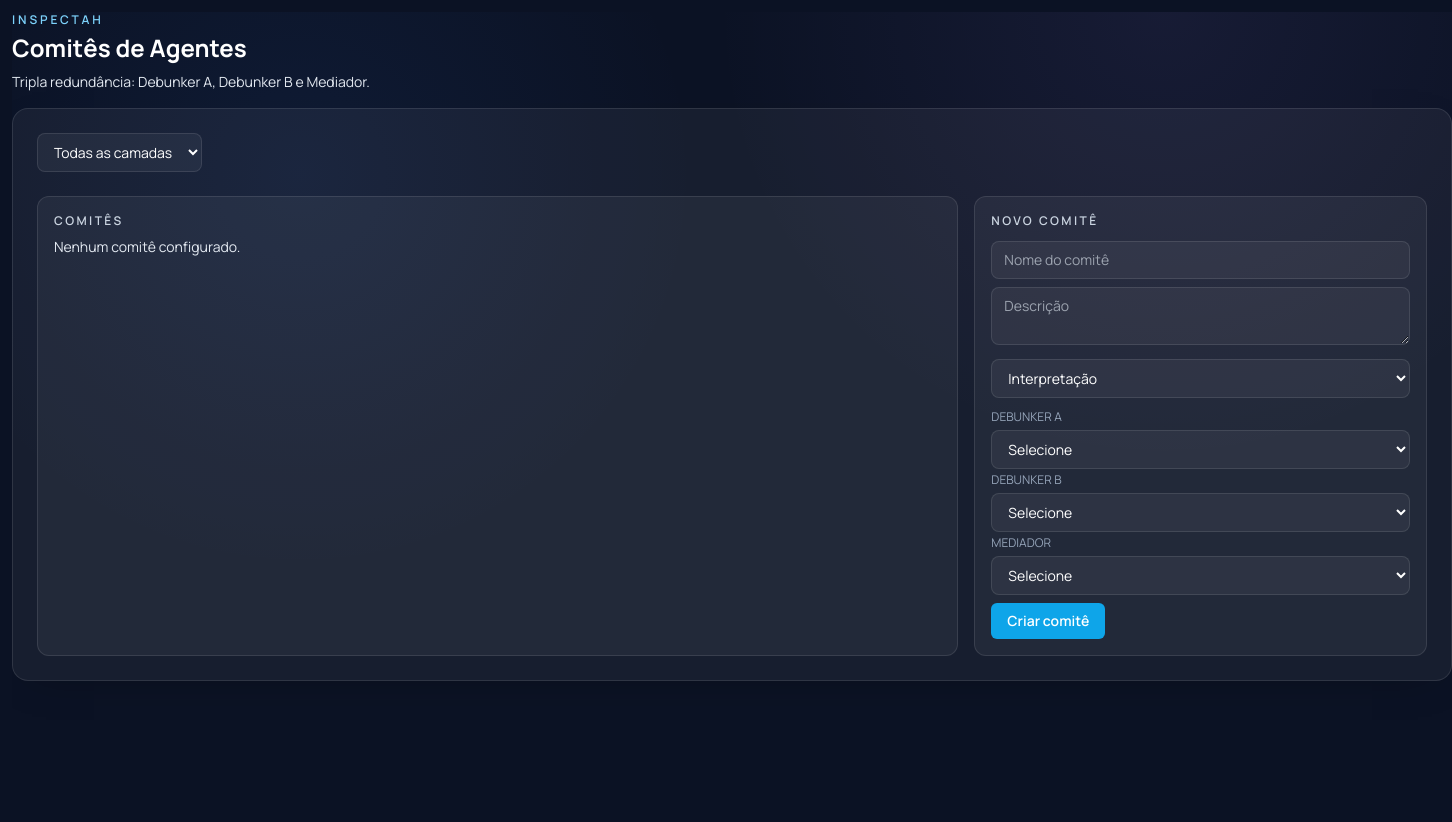
Test: Admin Agents Console › lista e cria comitê
This screenshot has width=1452, height=822.
Check: the heading "Comitês de Agentes" is shown, box [12,31,247,64]
Type "Novo Comitê" into the field with placeholder "Nome do comitê".
click(1201, 260); type("Novo Comitê")  # box [991,241,1410,279]
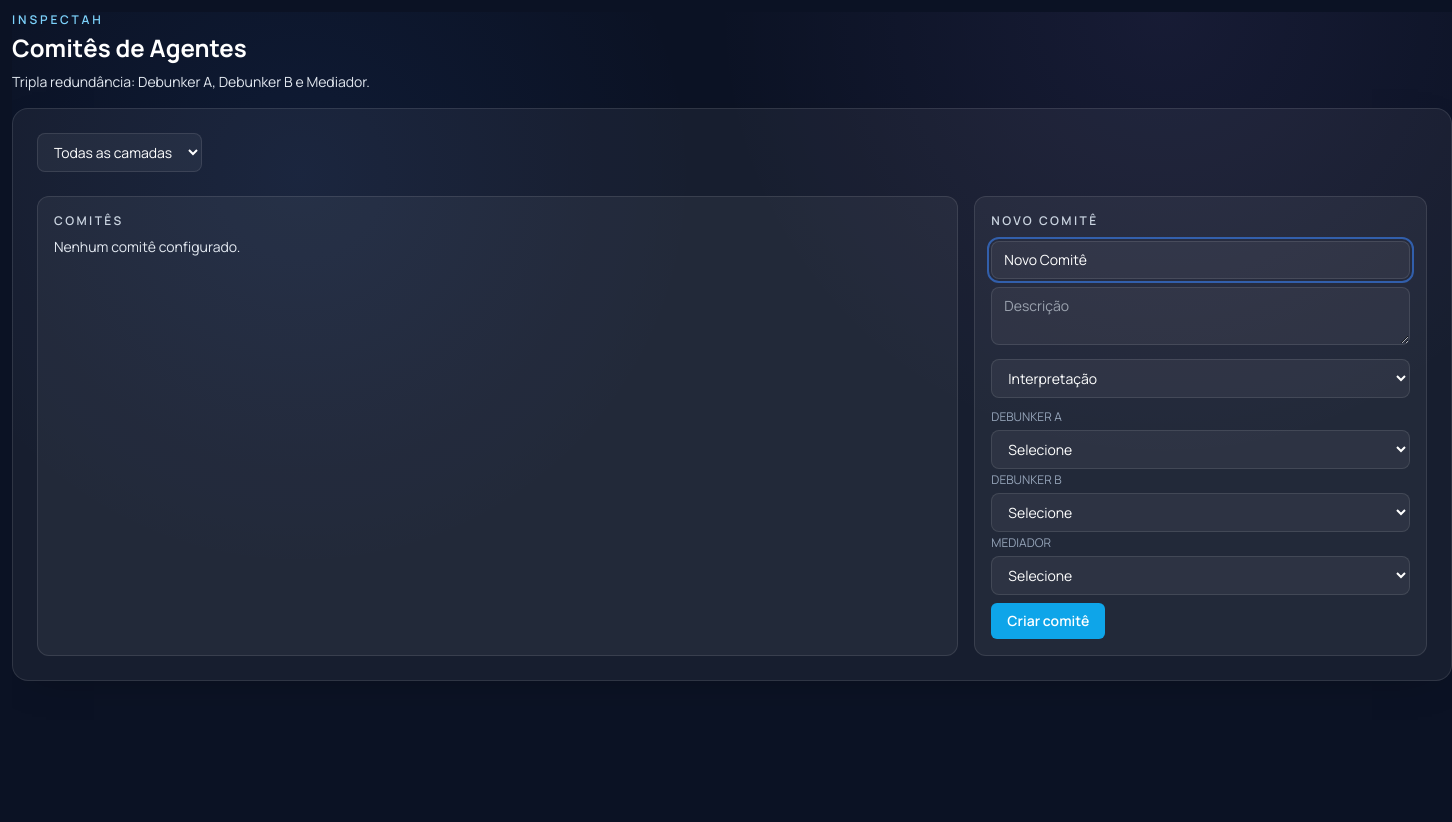
Select "Interpretação" in the dropdown below "Novo comitê" at {"x": 1201, "y": 378}, box [991,359,1410,398]
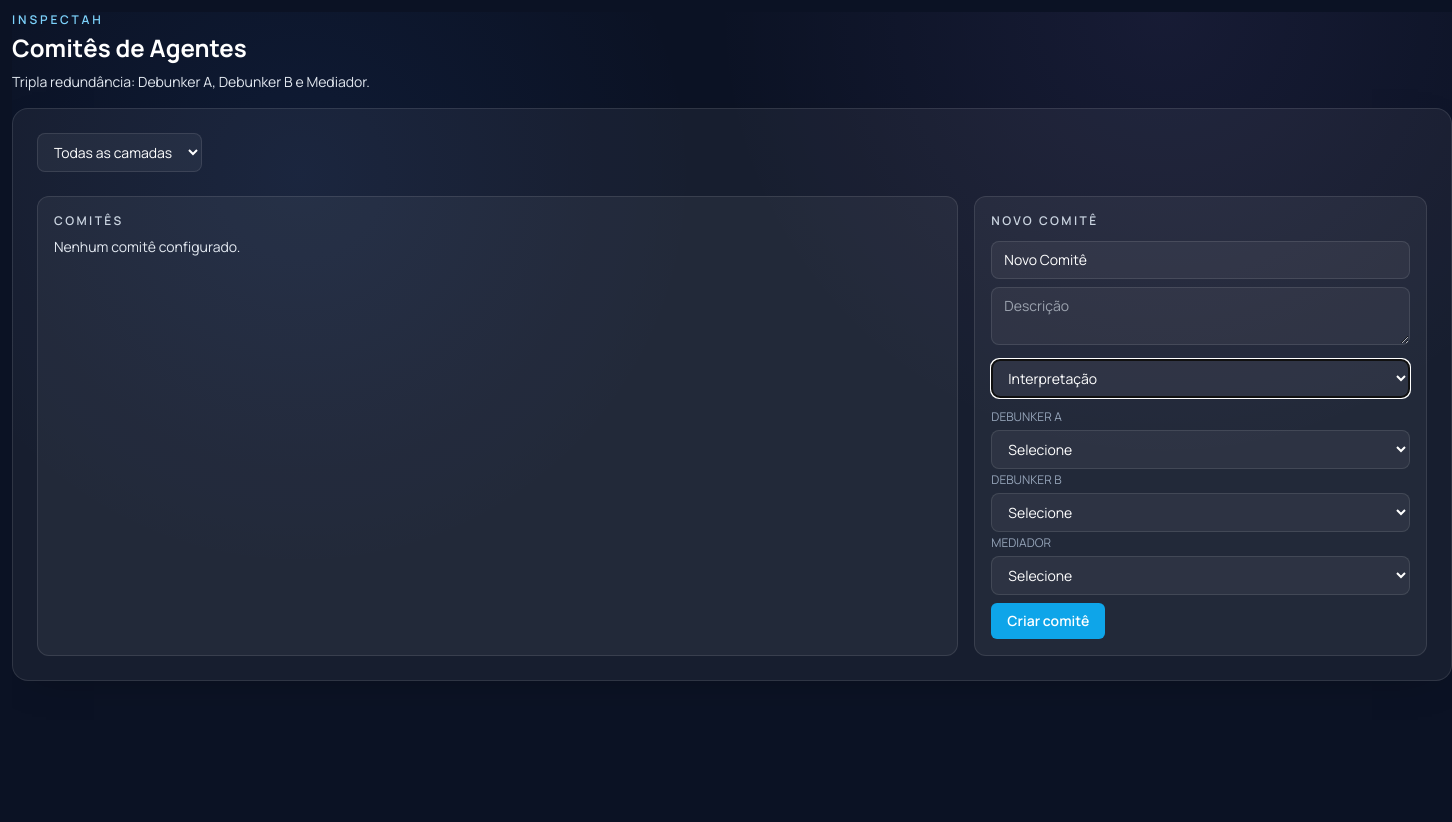
Select "Debunker A" in the dropdown labelled "Debunker A" at {"x": 1201, "y": 450}, box [991,430,1410,469]
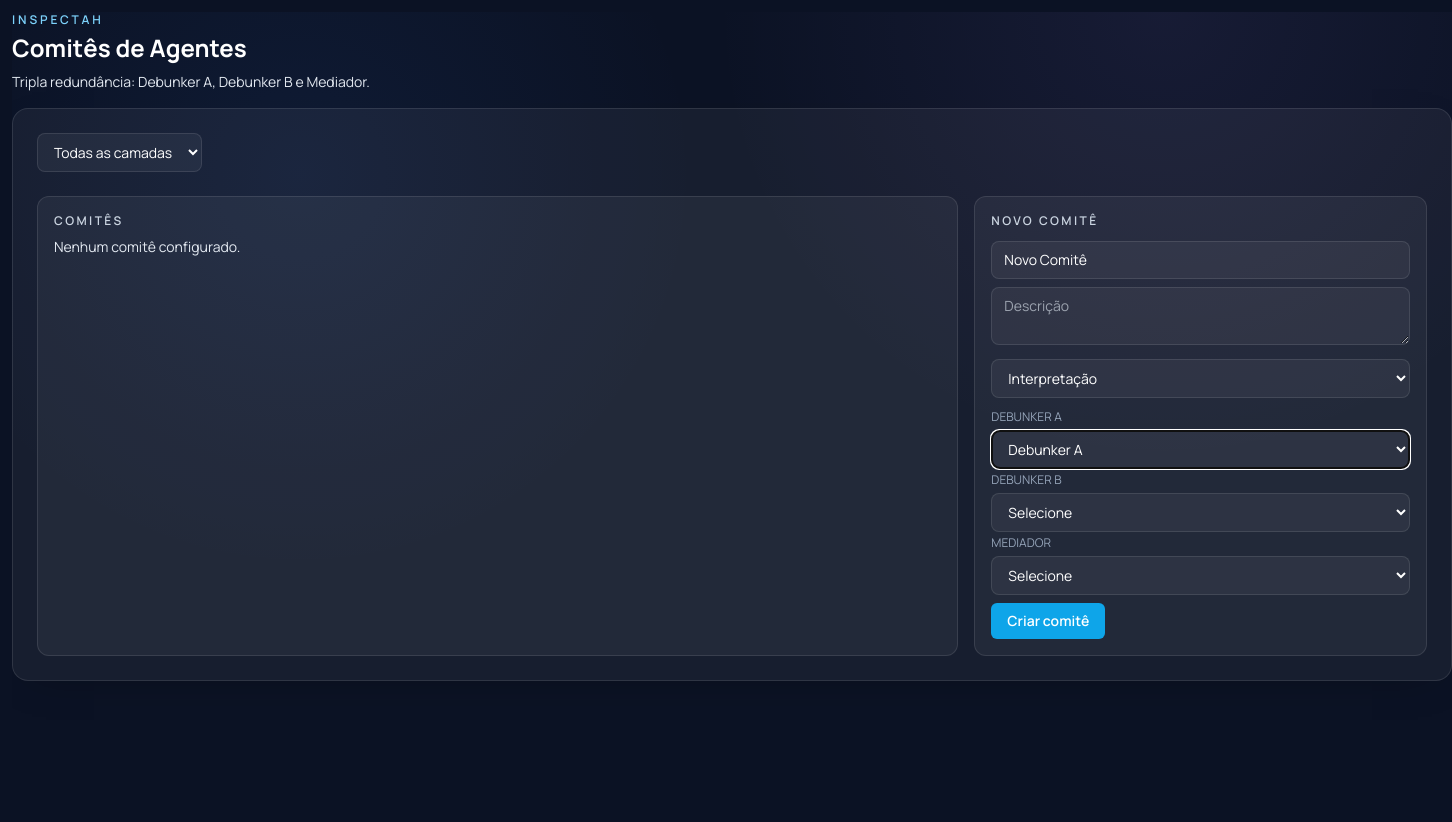
Select "Debunker A" in the dropdown labelled "Debunker B" at {"x": 1201, "y": 512}, box [991,493,1410,532]
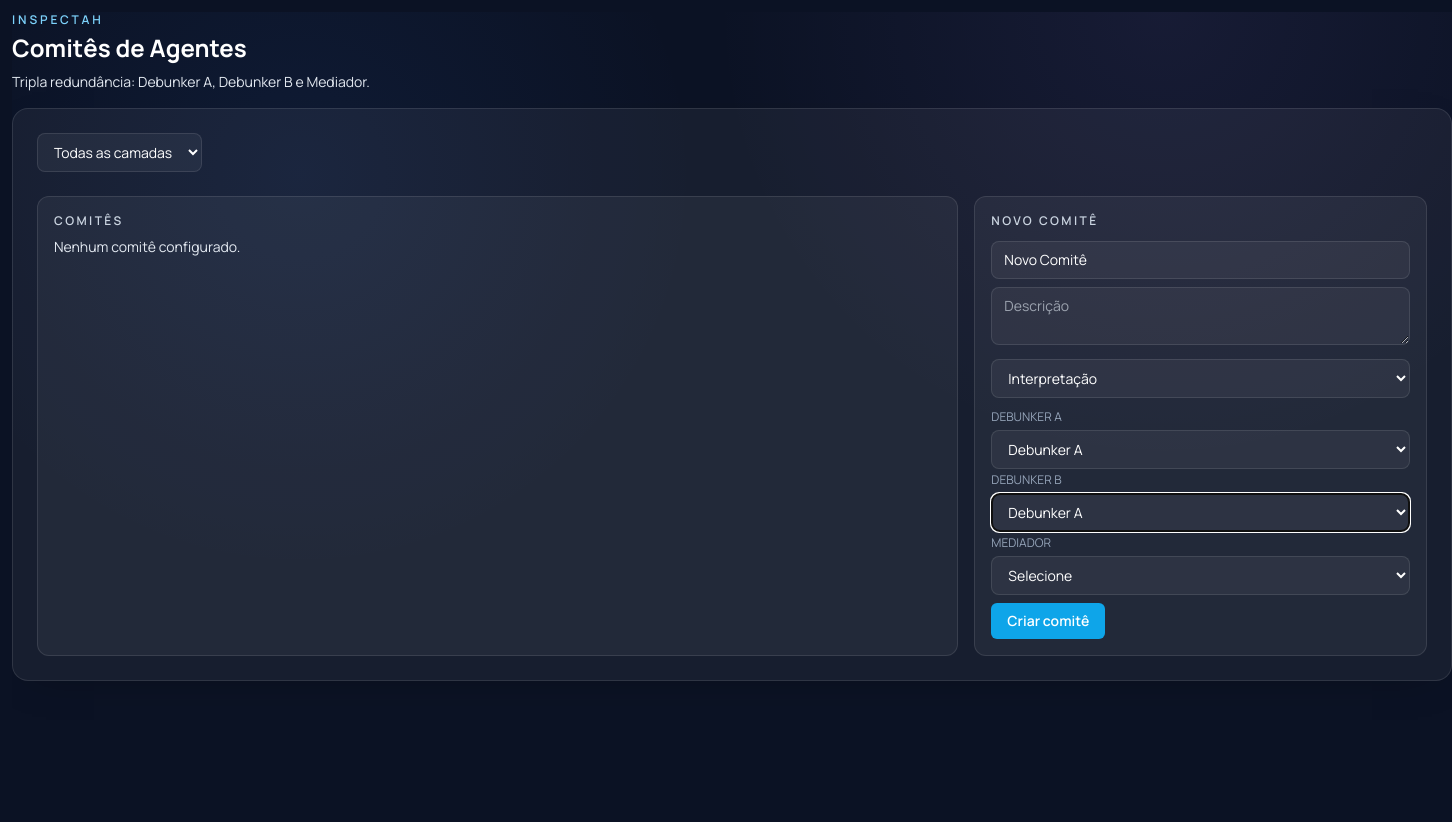
Select "Debunker A" in the dropdown labelled "Mediador" at {"x": 1201, "y": 576}, box [991,556,1410,595]
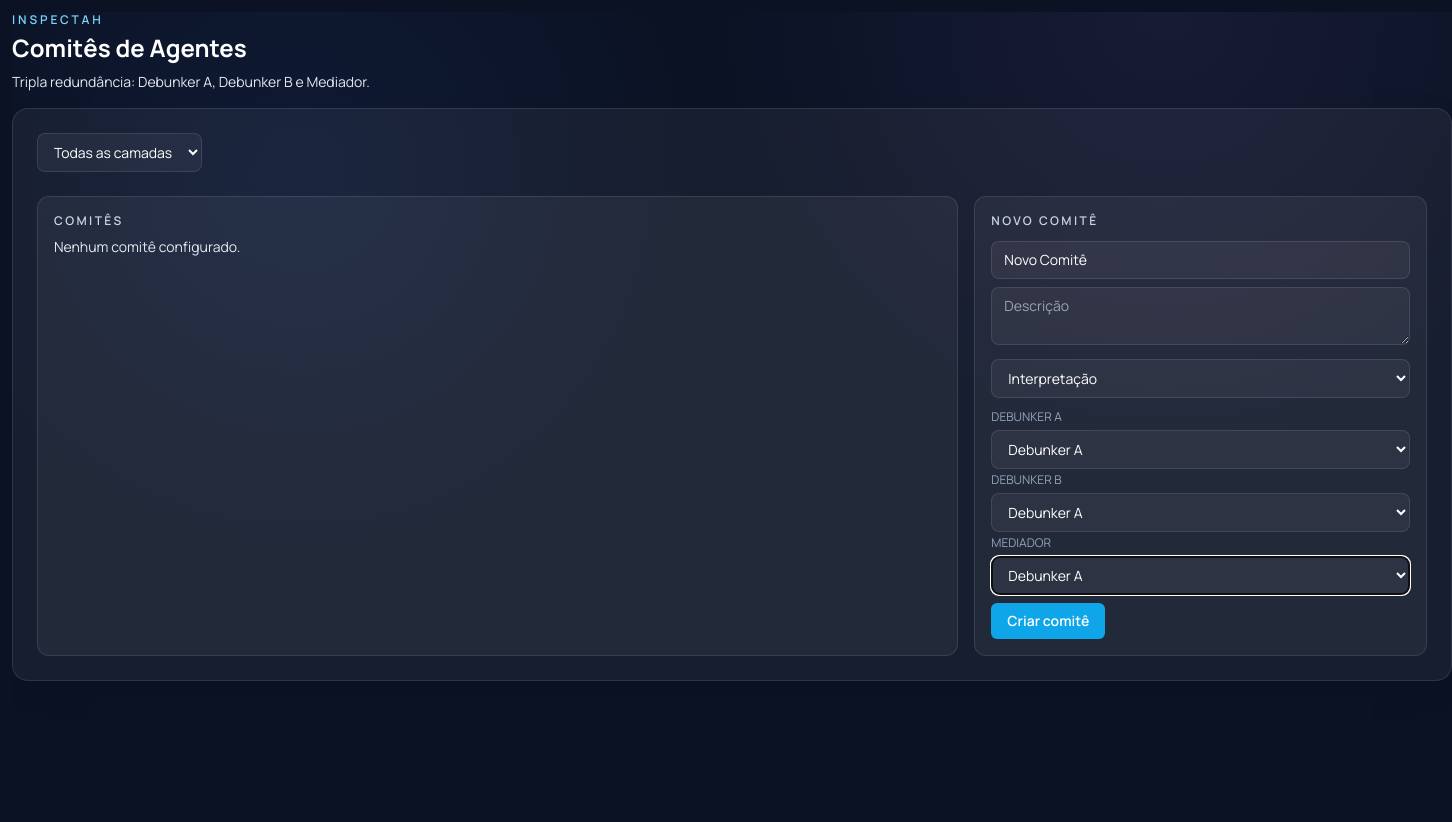
Click the button "Criar comitê".
click(1048, 621)  # box [991,603,1105,639]
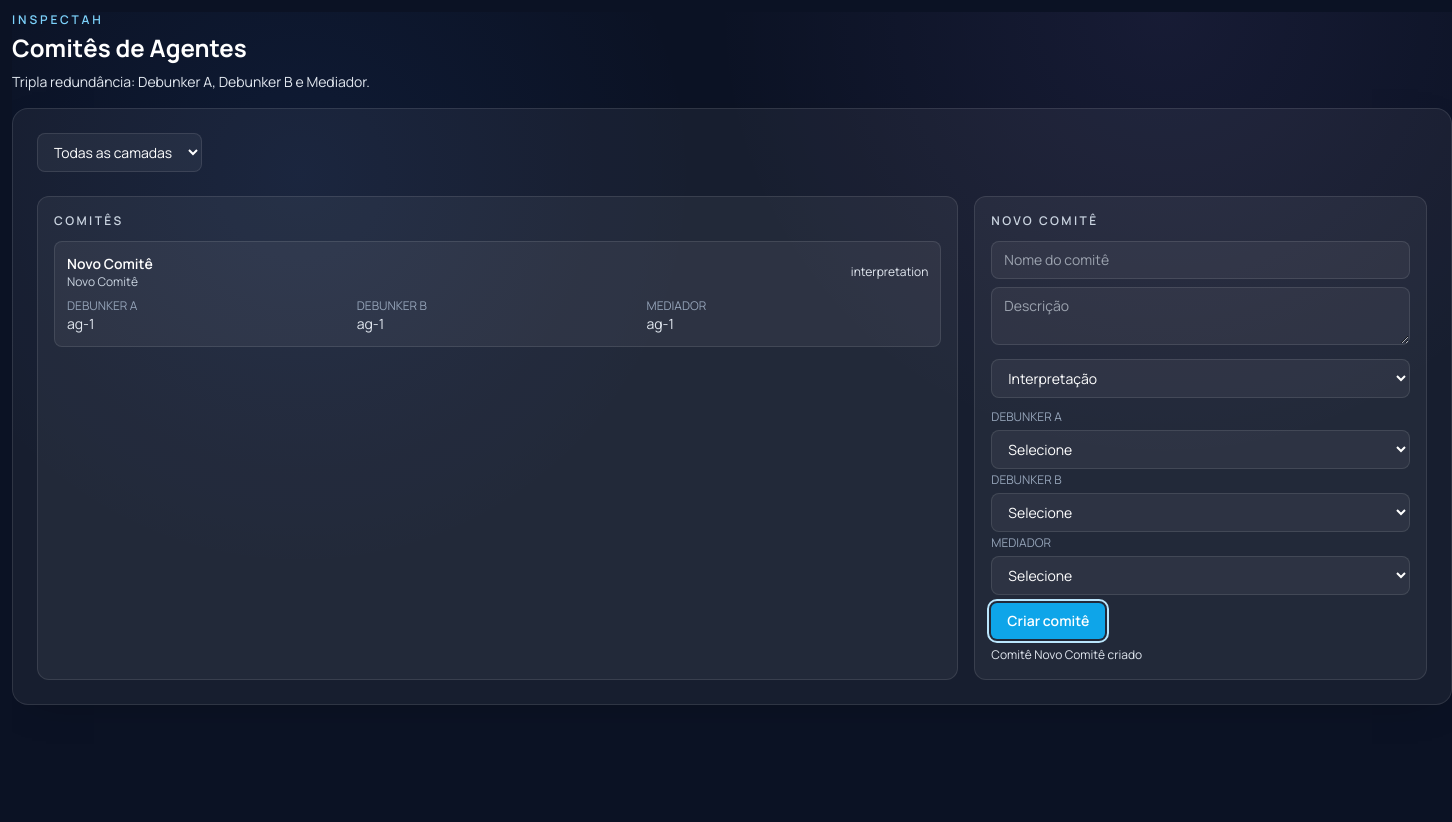
Check: the text "Comitê Novo Comitê criado" is shown, box [991,646,1142,663]
